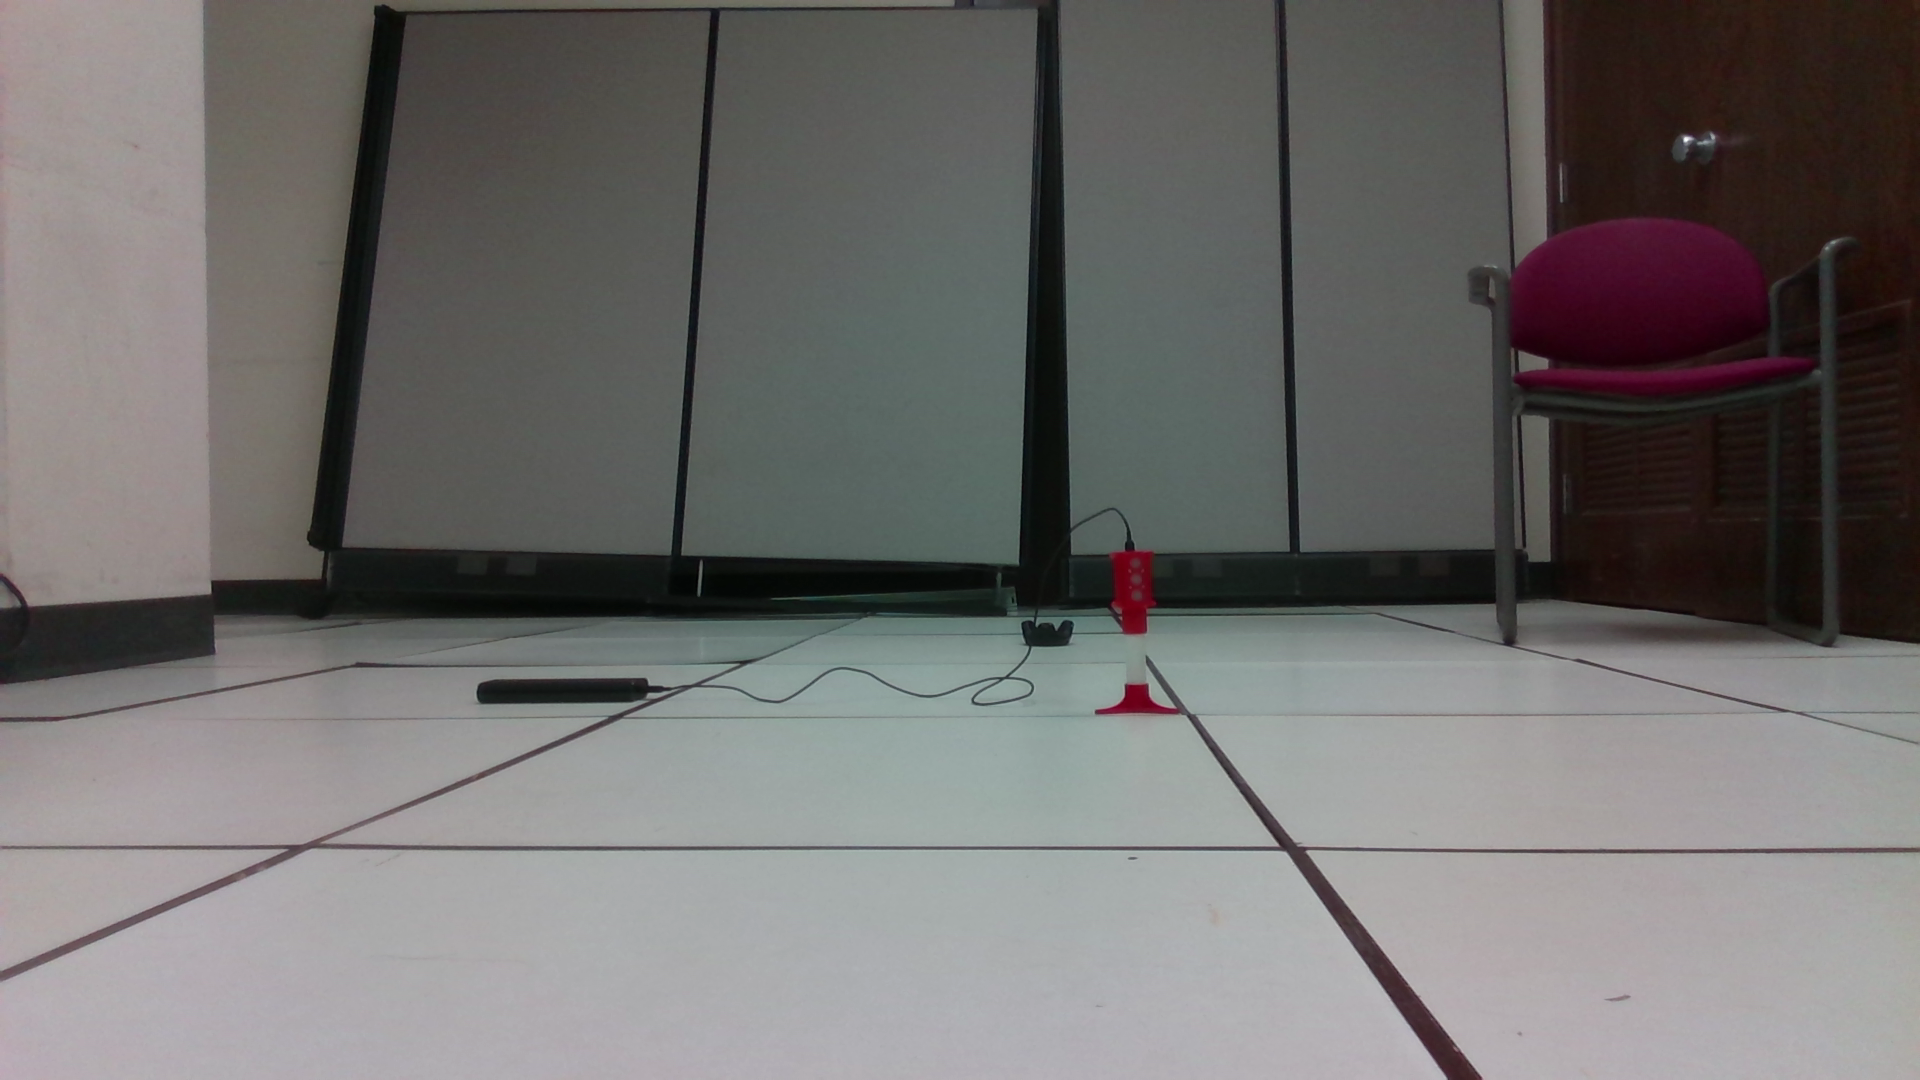stoplight: (1112, 549, 1154, 641)
